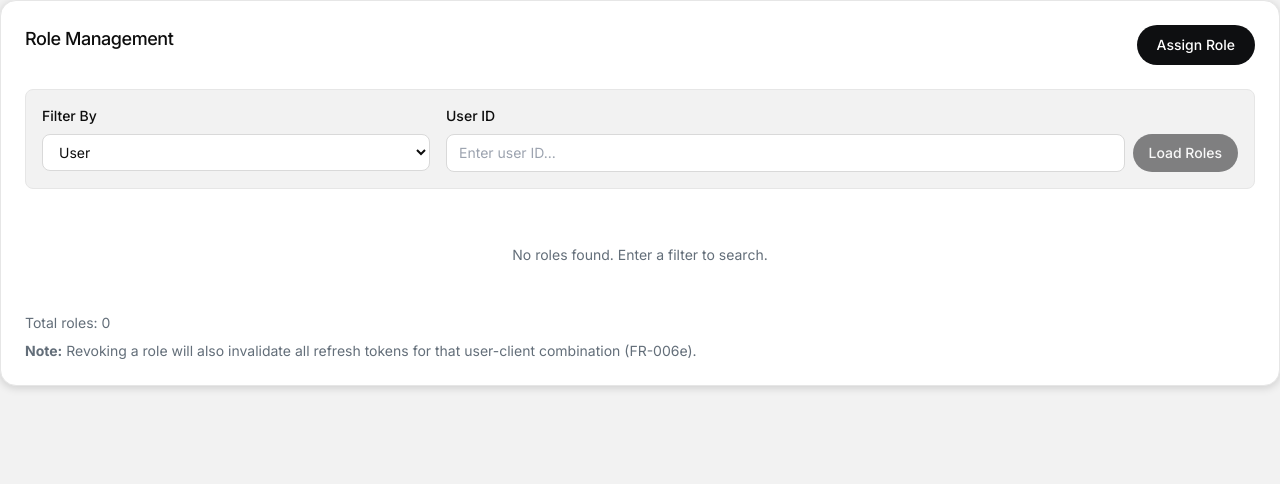
RoleManagement Component › loads and displays user roles when filter is applied
This screenshot has width=1280, height=484.
Expected: the dropdown showing "User" is shown, [42,134,430,171]
Enter user ID
In the field with placeholder "Enter user ID...": {"x": 785, "y": 153} [446,134,1124,172], type "user-1"
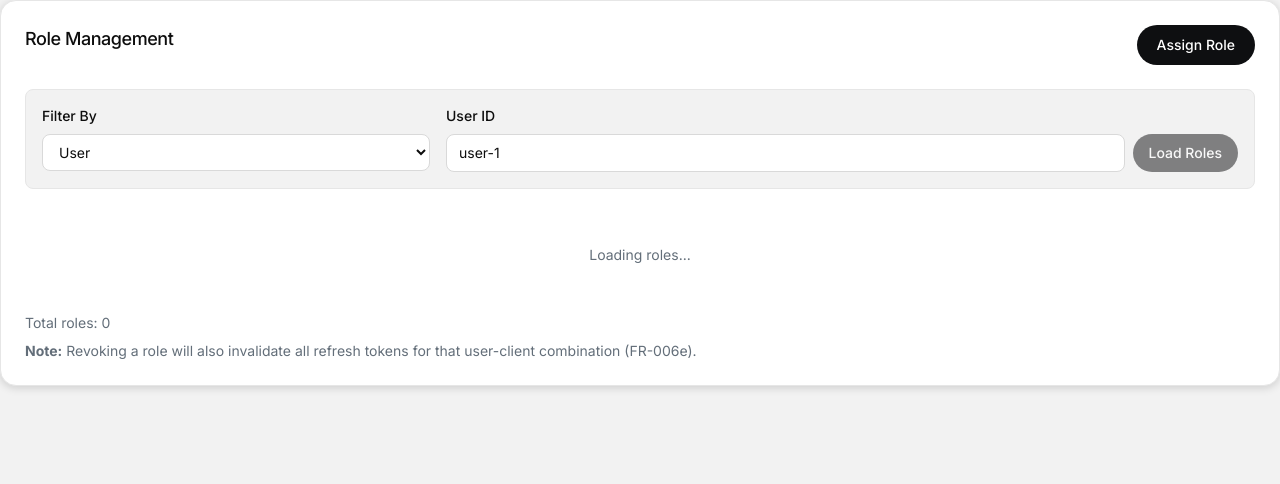
Click load button
Click the button "Load Roles": {"x": 1185, "y": 153} [1132,134,1238,172]
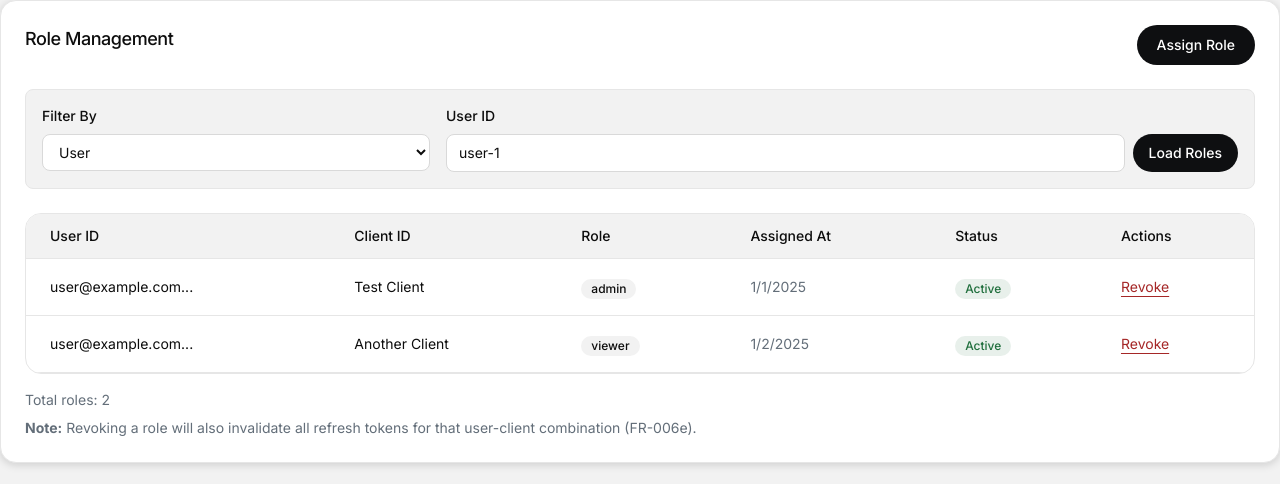
Expected: the text "Test Client" is shown, [330,258,557,316]
Expected: the text "Another Client" is shown, [330,316,557,372]
Expected: the text "Total roles: 2" is shown, [25,391,110,408]
